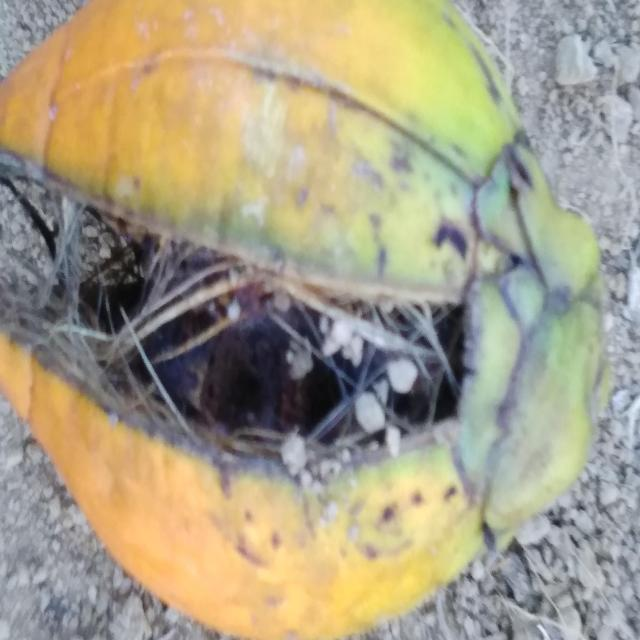damaged: (0, 0, 613, 640)
